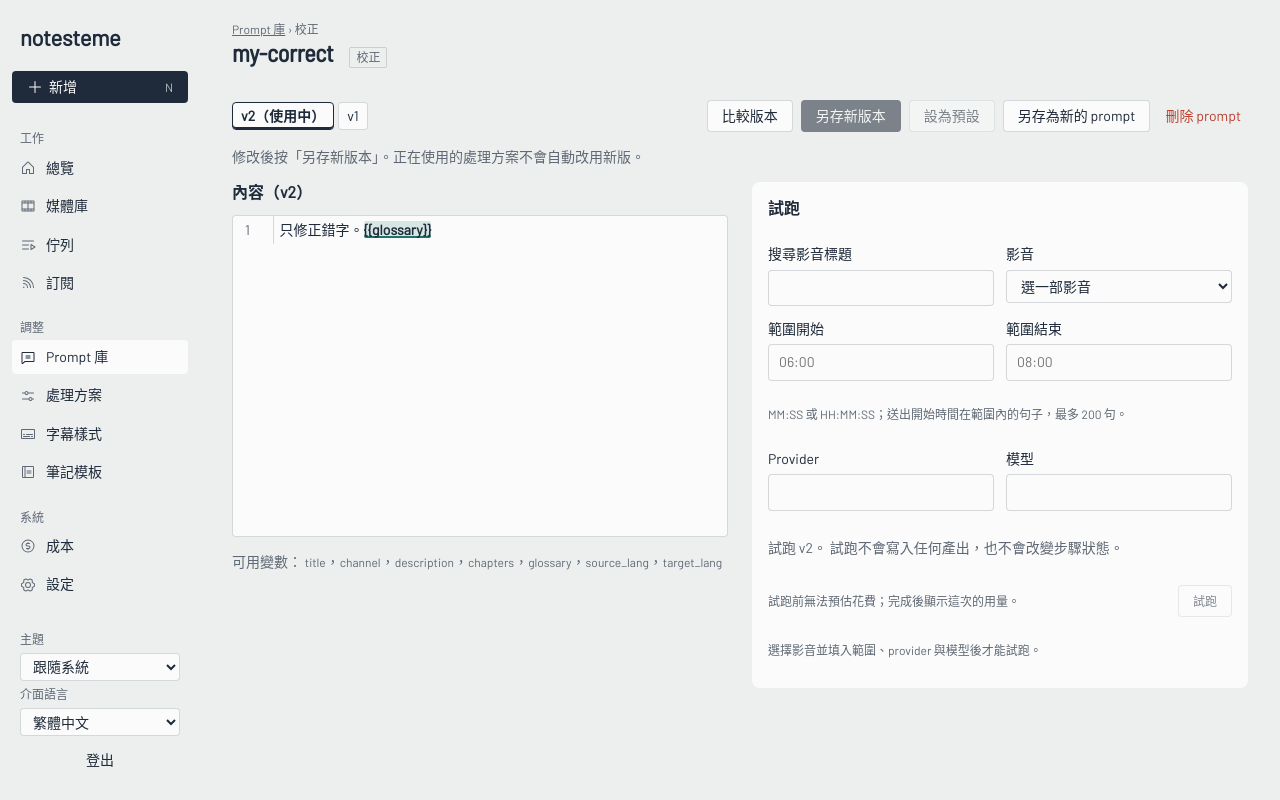
Test: Prompt 庫：編輯 › 設為預設：送出選擇的版本
This screenshot has width=1280, height=800.
Expected: the heading "my-correct" is shown, [232, 39, 333, 68]
Expected: the element named "版本" is shown, [232, 102, 368, 130]
Click the button "v1".
click(353, 116)  # box [338, 102, 368, 130]
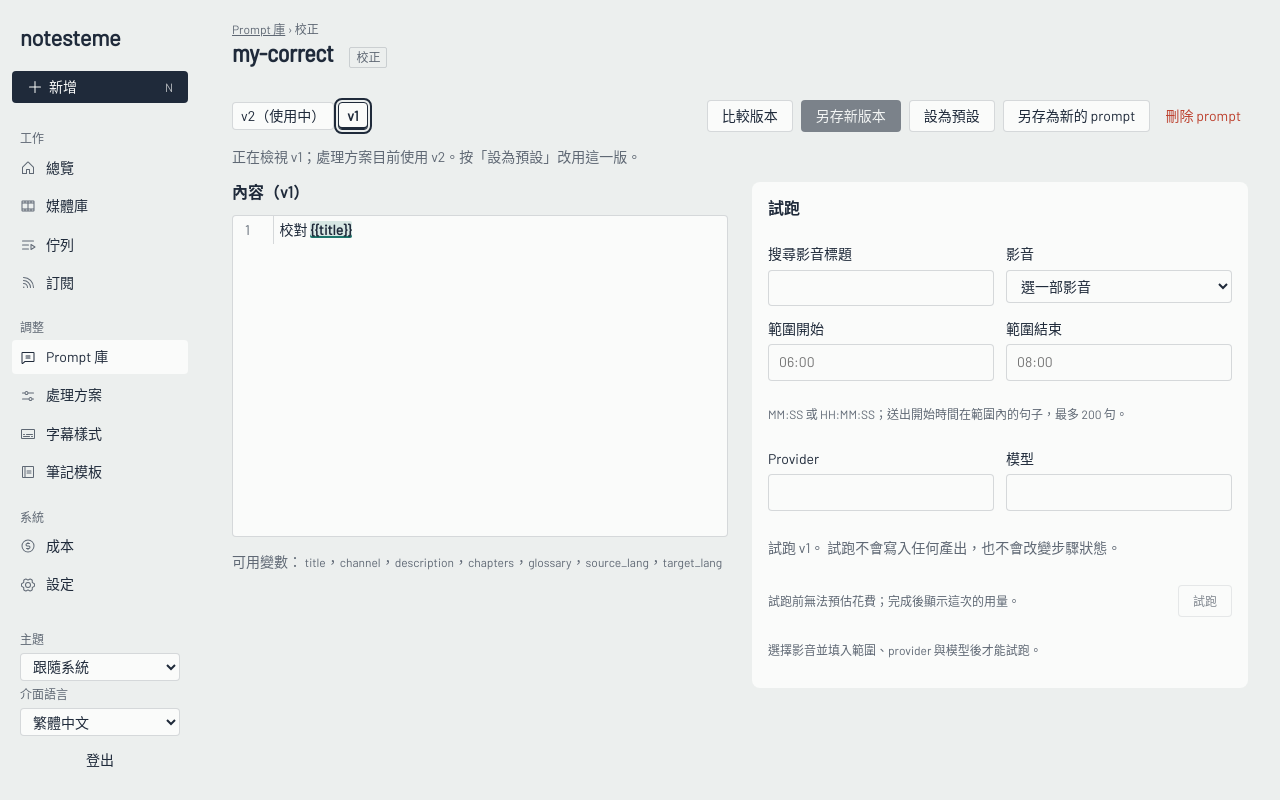
Expected: the field labelled "校對 {{title}}" is shown, [280, 221, 352, 238]
Click the button "設為預設".
click(952, 116)  # box [909, 100, 995, 132]
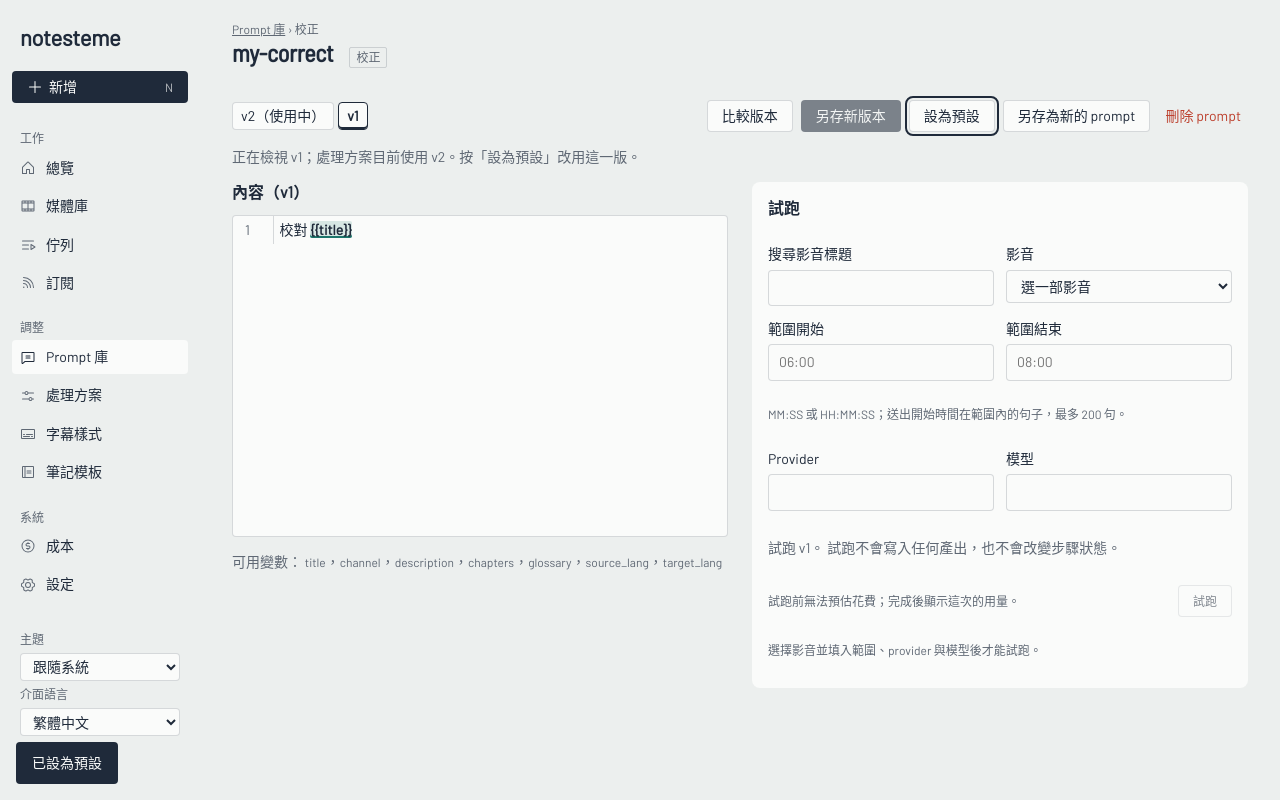
Expected: the text "已設為預設" is shown, [32, 752, 102, 774]
